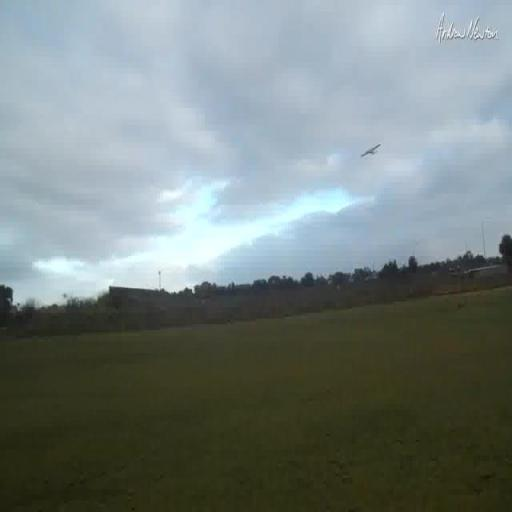uav: (356, 138, 383, 160)
